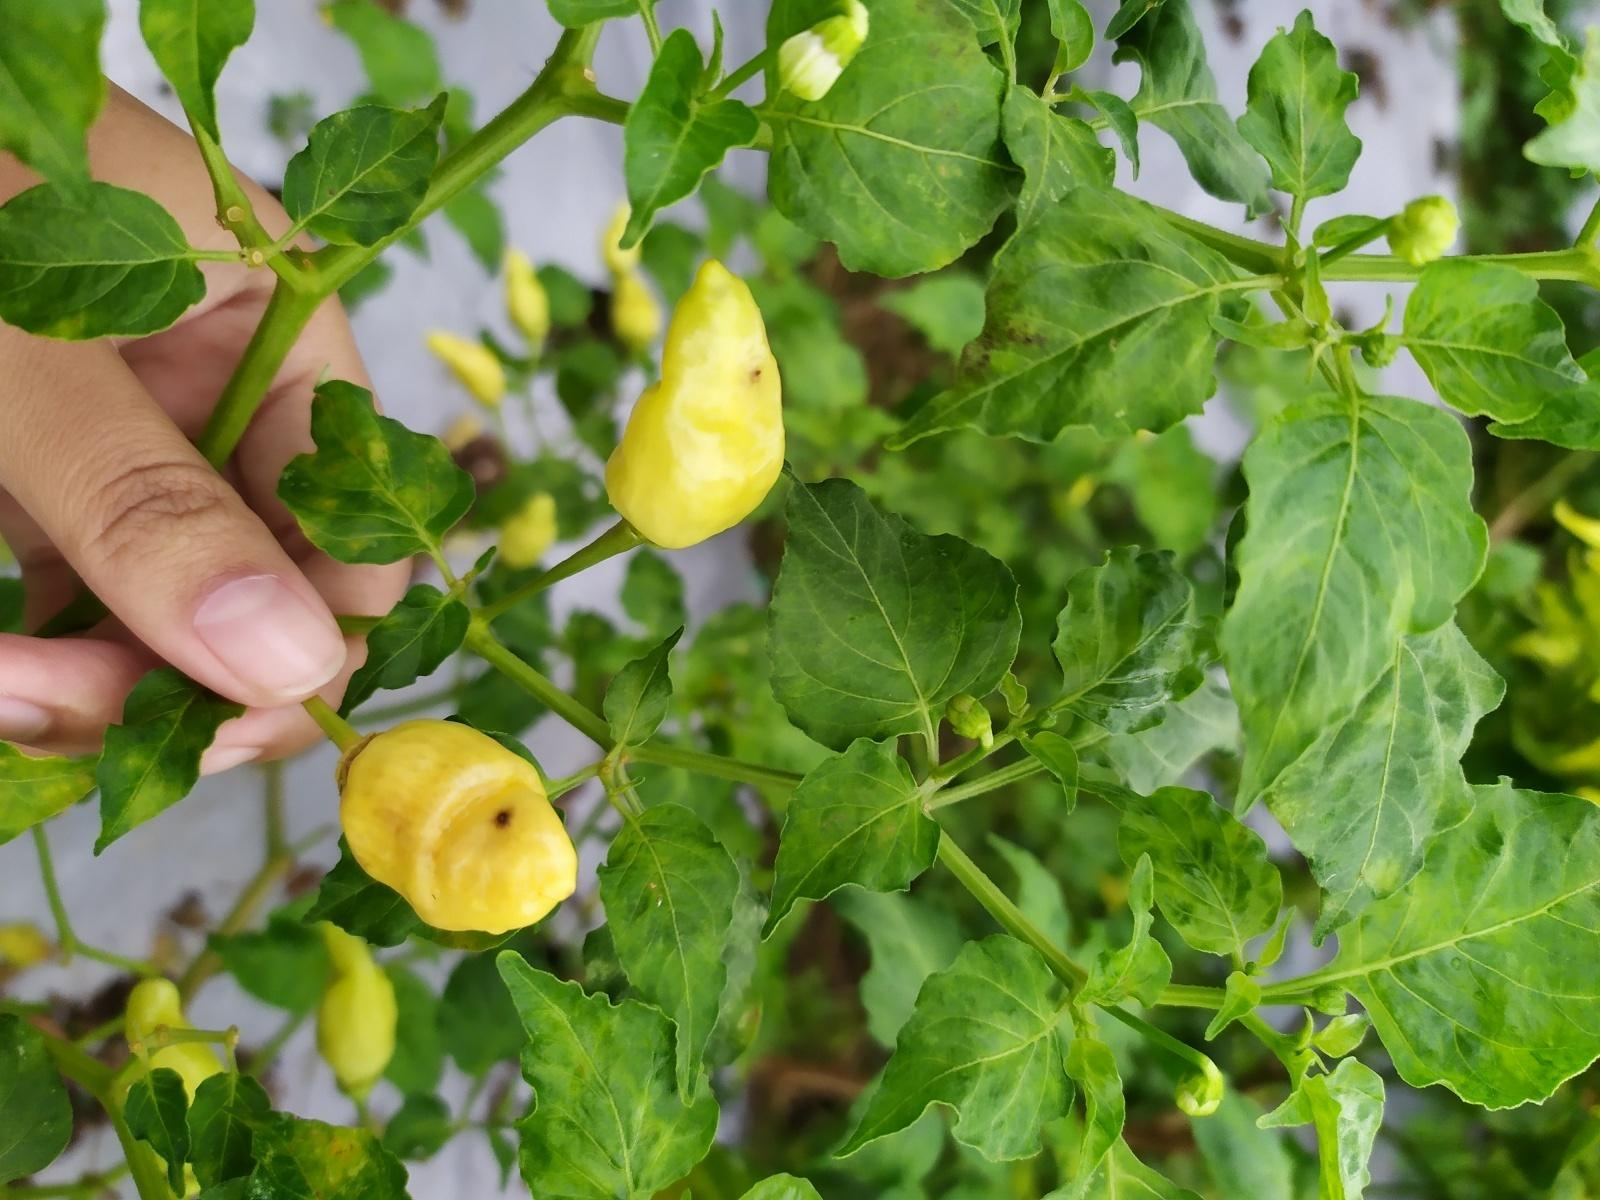lalat_buah: (603, 258, 786, 548), (341, 721, 578, 933)
